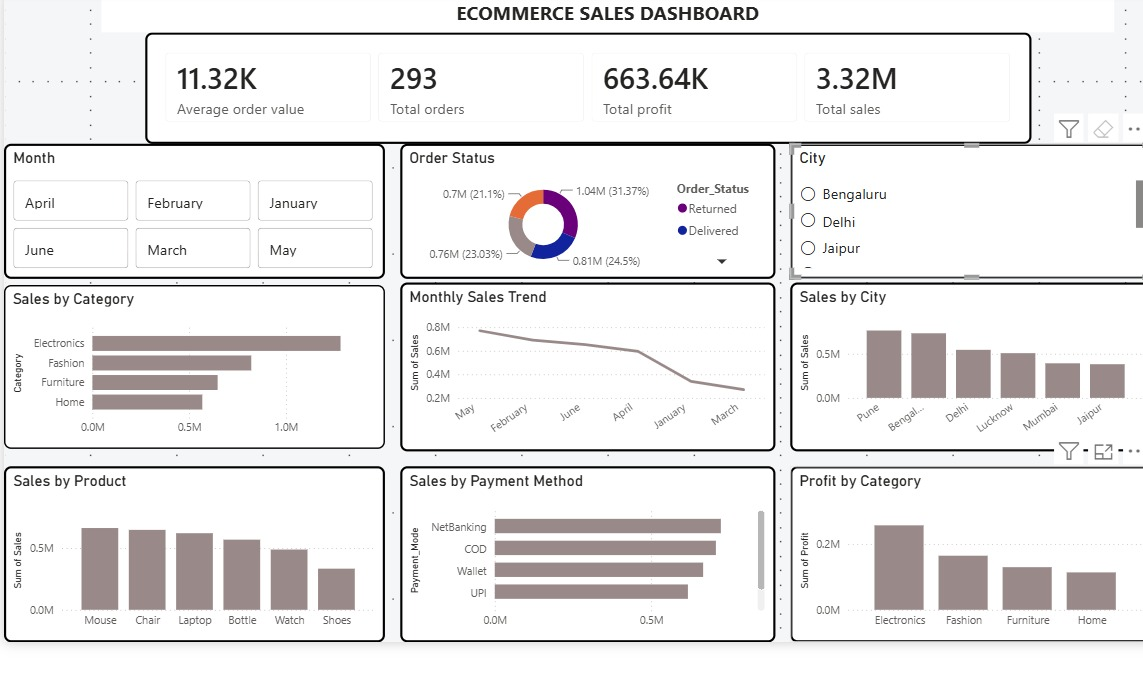

The page's visual inventory and layout, read from the dashboard file:
{"tool":"powerbi","page":{"name":"Page 1","canvas":[1280,720],"ordinal":0},"visuals":[{"type":"cardVisual","fields":{"Data":["Dax Measure.average order value","Dax Measure.total orders","Dax Measure.total profit","Dax Measure.total sales"]},"box":[157.2,41.7,986.4,123.8],"z":0},{"type":"textbox","box":[108.5,0,1127,41.7],"z":1000},{"type":"lineChart","title":"Monthly Sales Trend","fields":{"Y":["Sum(ecommerce orders.Sales)"],"Category":["ecommerce orders.Month"]},"box":[441,320,417.4,187.8],"z":2000},{"type":"clusteredBarChart","title":"Sales by Category","fields":{"Y":["Sum(ecommerce orders.Sales)"],"Category":["ecommerce orders.Category"]},"box":[0,322.8,424.3,182.3],"z":3000},{"type":"columnChart","title":"Sales by Product","fields":{"Category":["ecommerce orders.Product"],"Y":["Sum(ecommerce orders.Sales)"]},"box":[0,524.5,424.3,196.2],"z":4000},{"type":"columnChart","title":"Sales by City","fields":{"Category":["ecommerce orders.City"],"Y":["Sum(ecommerce orders.Sales)"]},"box":[875.1,320,404.9,187.8],"z":5000},{"type":"barChart","title":"Sales by Payment Method","fields":{"Category":["ecommerce orders.Payment_Mode"],"Y":["Sum(ecommerce orders.Sales)"]},"box":[441,524.5,417.4,196.2],"z":6000},{"type":"donutChart","title":"Order Status","fields":{"Category":["ecommerce orders.Order_Status"],"Y":["Sum(ecommerce orders.Sales)"]},"box":[441,165.6,417.4,150.3],"z":7000},{"type":"columnChart","title":"Profit by Category","fields":{"Y":["Sum(ecommerce orders.Profit)"],"Category":["ecommerce orders.Category"]},"box":[875.1,524.5,404.9,196.2],"z":9000},{"type":"advancedSlicerVisual","fields":{"Values":["ecommerce orders.Month"]},"box":[0,165.6,424.3,150.3],"z":9001},{"type":"listSlicer","fields":{"Values":["ecommerce orders.City"]},"box":[875.1,165.6,404.9,150.3],"z":9002}]}

Visuals, with their boxes in screenshot pixels (x1, y1, x2, y2):
cardVisual - Dax Measure.average order value x Dax Measure.total orders: box(138, 26, 1038, 139)
textbox: box(93, 0, 1122, 26)
"Monthly Sales Trend" lineChart: box(397, 280, 778, 452)
"Sales by Category" clusteredBarChart: box(0, 283, 381, 449)
"Sales by Product" columnChart: box(0, 467, 381, 646)
"Sales by City" columnChart: box(793, 280, 1142, 452)
"Sales by Payment Method" barChart: box(397, 467, 778, 646)
"Order Status" donutChart: box(397, 139, 778, 277)
"Profit by Category" columnChart: box(793, 467, 1142, 646)
advancedSlicerVisual - ecommerce orders.Month: box(0, 139, 381, 277)
listSlicer - ecommerce orders.City: box(793, 139, 1142, 277)
